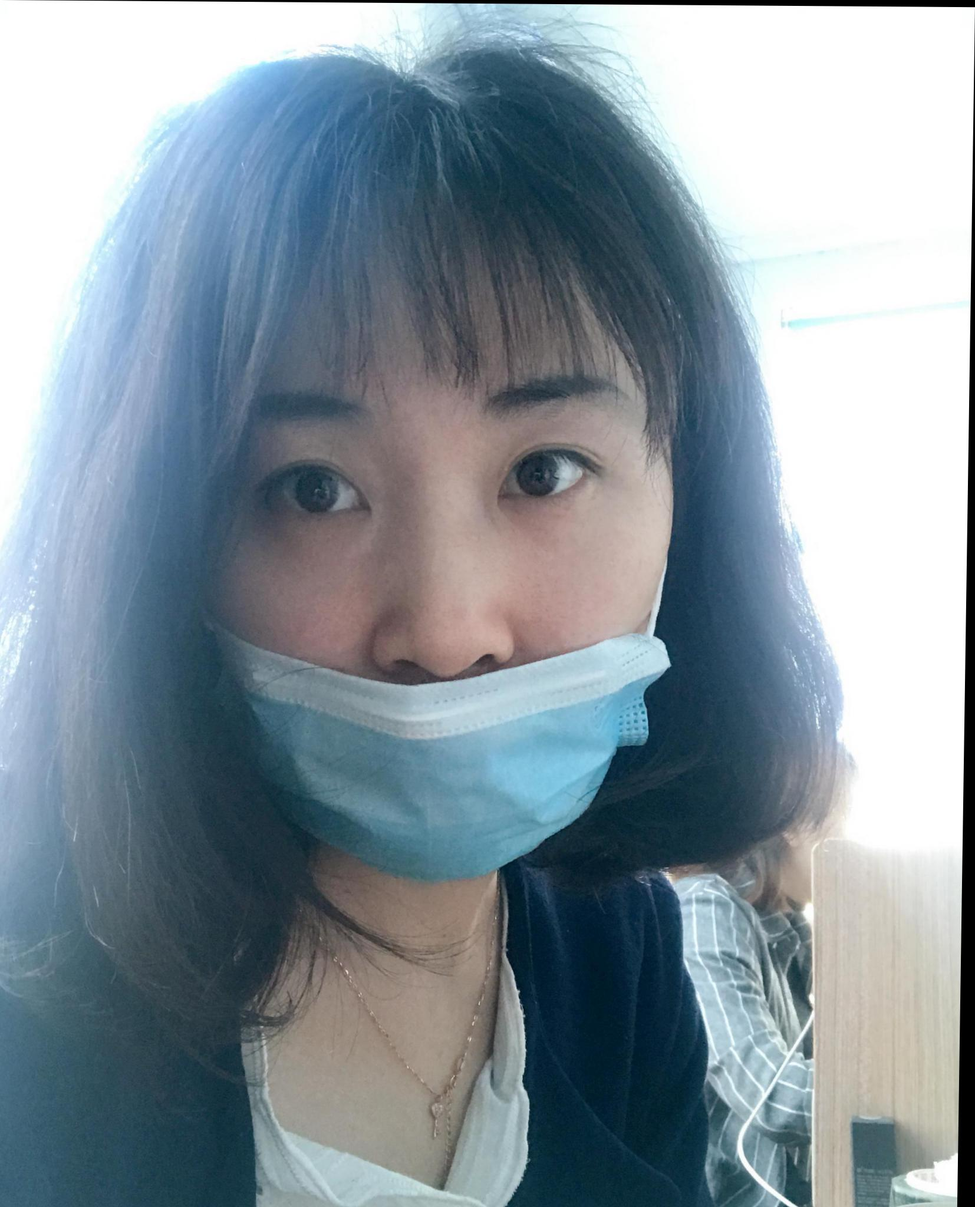WRONG: (179, 289, 680, 885)
